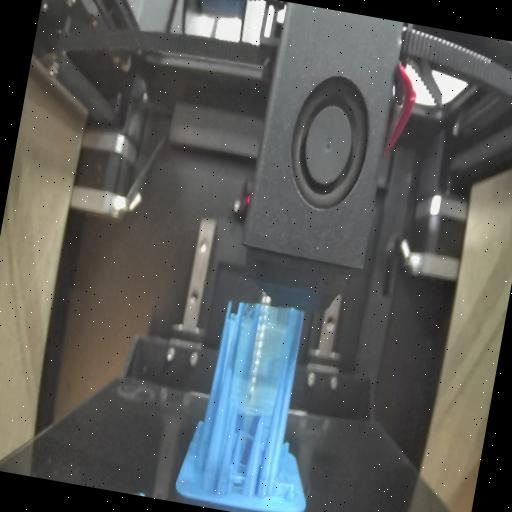stringing: (223, 296, 295, 419), (224, 428, 256, 496), (269, 476, 295, 502)
